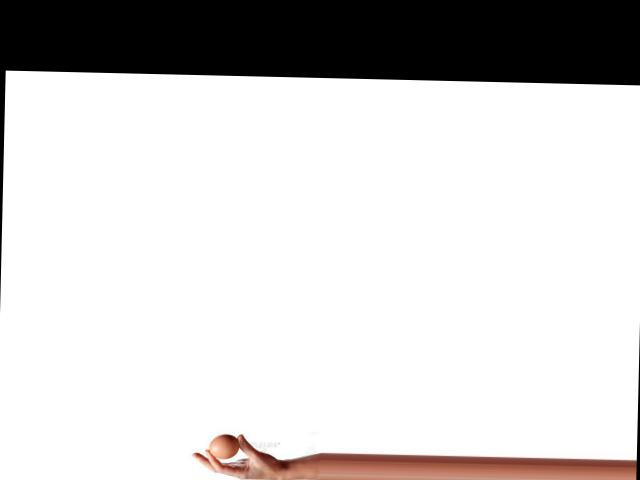egg: (209, 433, 240, 458)
